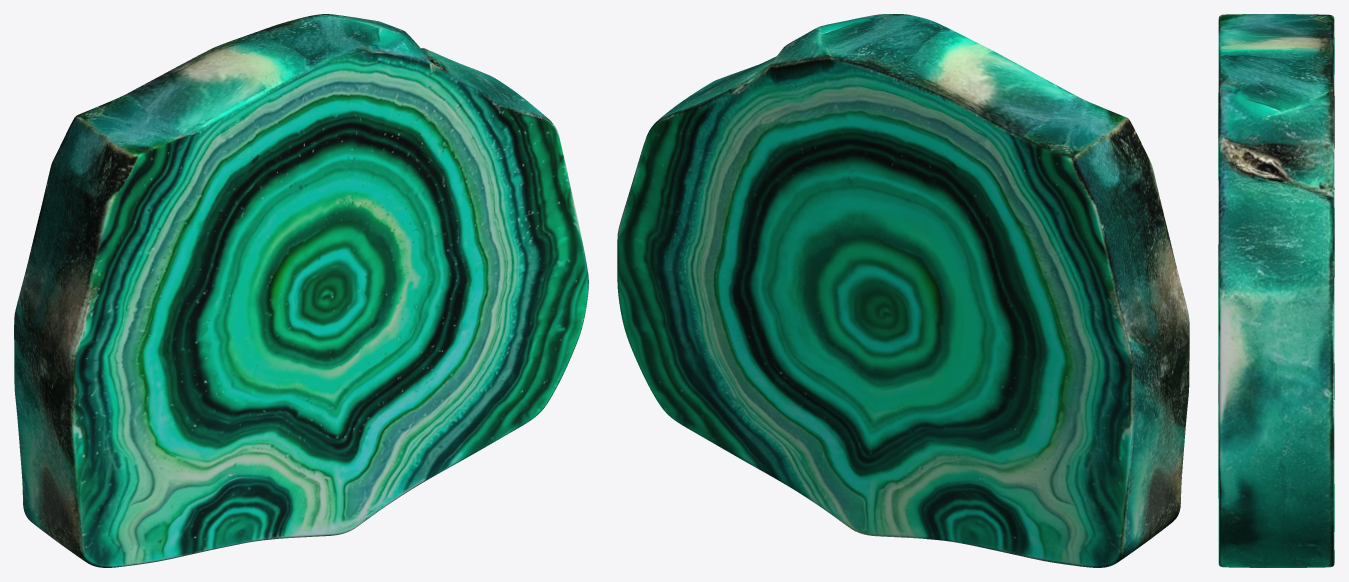
File: malachite.glb
3 renders of one model, left to right at view 1: azimuth 30°, elevation 25°; view 2: azimuth 150°, elevation 25°; view 3: azimuth 270°, elevation 25°, orthographic.
Visible parts, largest first — view 1: malachite; view 2: malachite; view 3: malachite.
Part boxes in pixels (x1,y1,x2,y2): malachite: (14,14,588,567); malachite: (617,14,1189,567); malachite: (1218,14,1334,567).
Bounding box in the file's own units: 1 × 0.8827 × 0.1945.
1 material, 1 textured.
